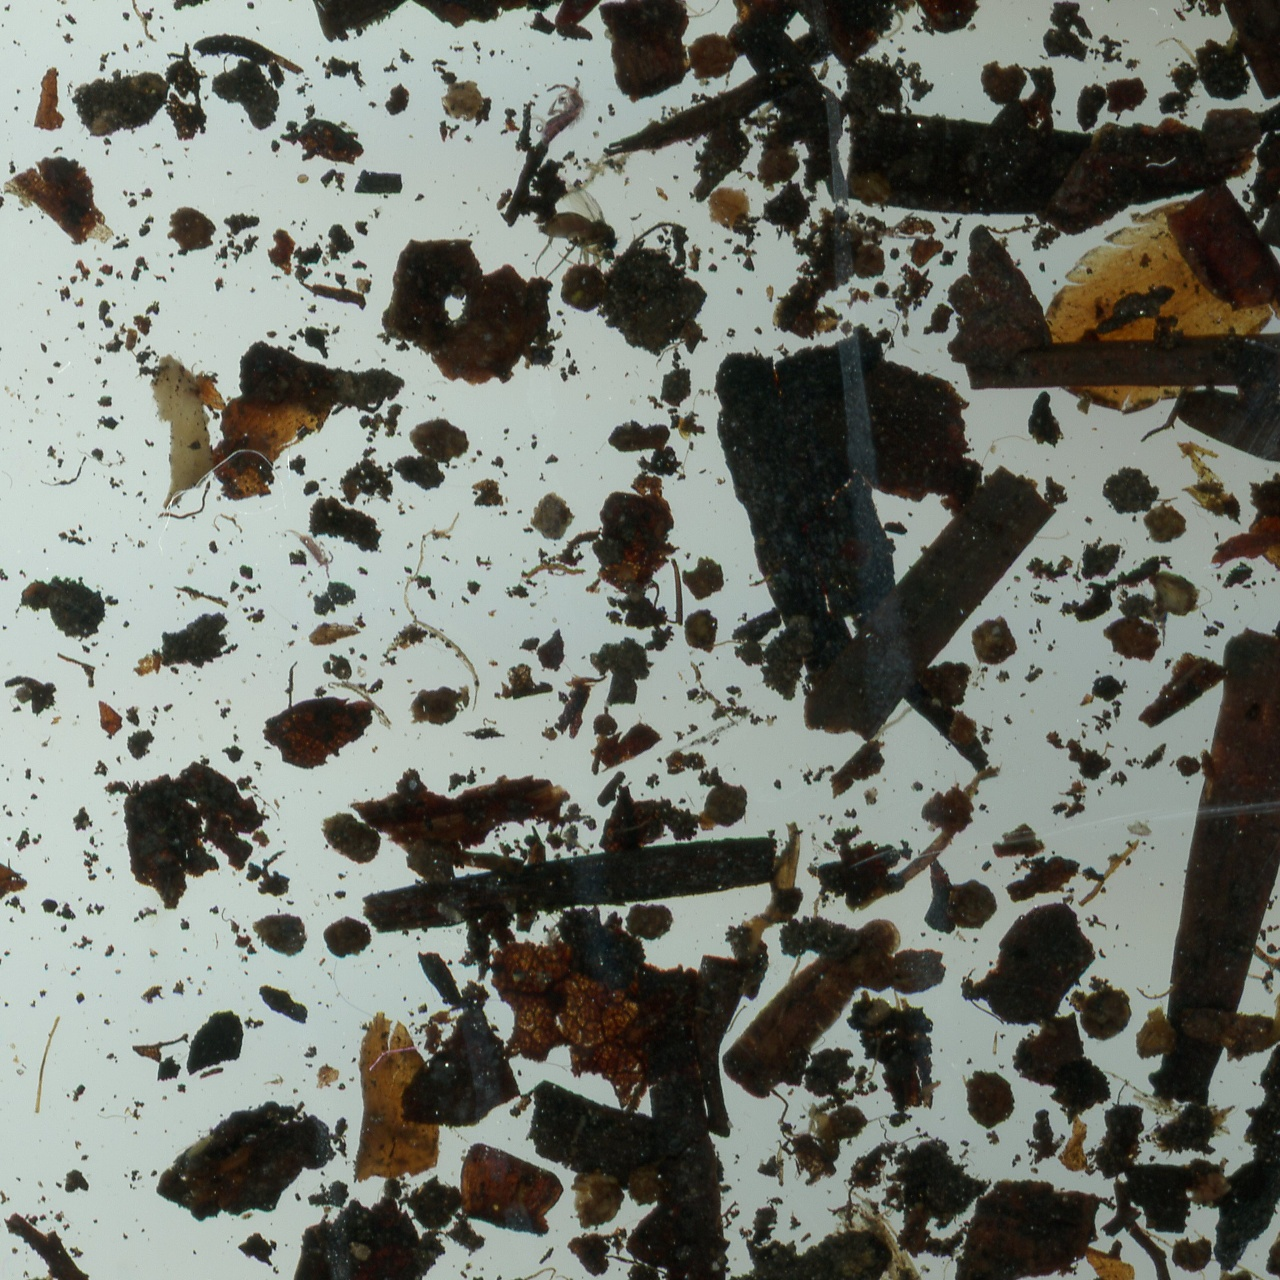arthropod: (532, 184, 619, 287), (540, 74, 585, 145), (287, 527, 336, 579)
